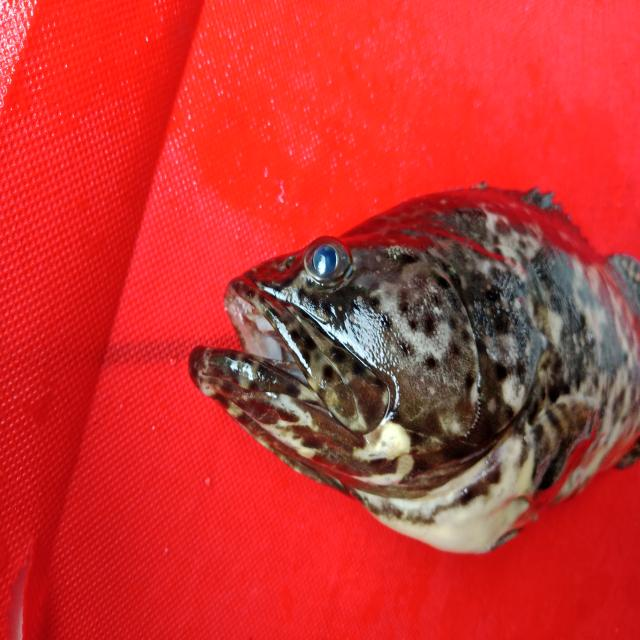ikan: (174, 171, 631, 570)
